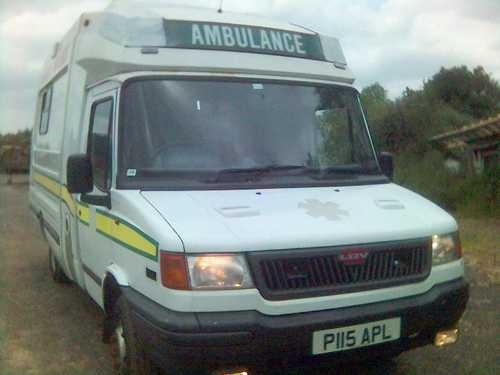Ambulance: (18, 5, 489, 366)
